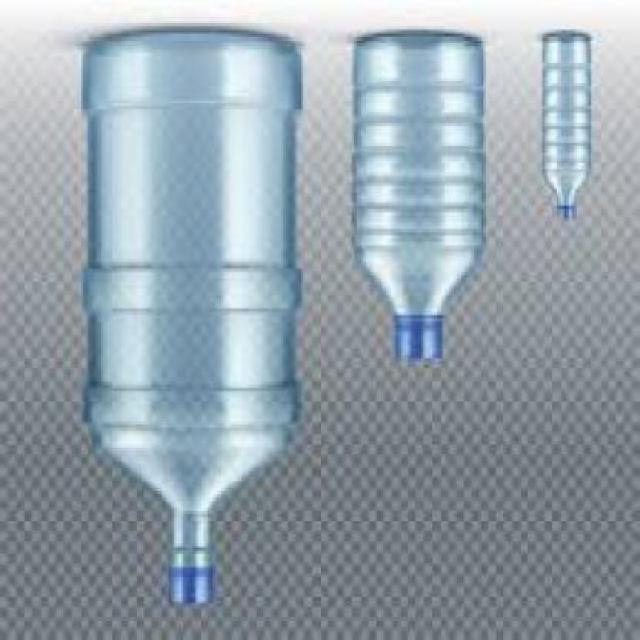PLASTIC: (86, 36, 308, 610), (354, 37, 489, 361), (544, 37, 594, 221), (171, 561, 217, 607), (398, 322, 444, 364), (561, 205, 577, 222)
